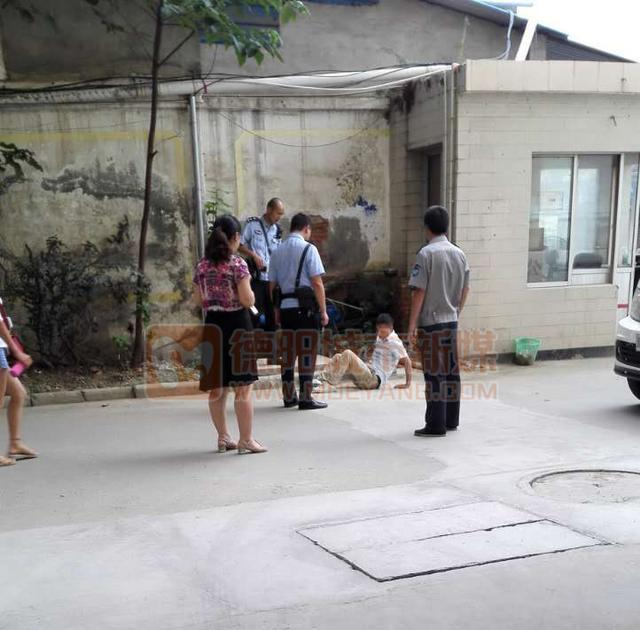Fall-Detected: (311, 307, 418, 399)
